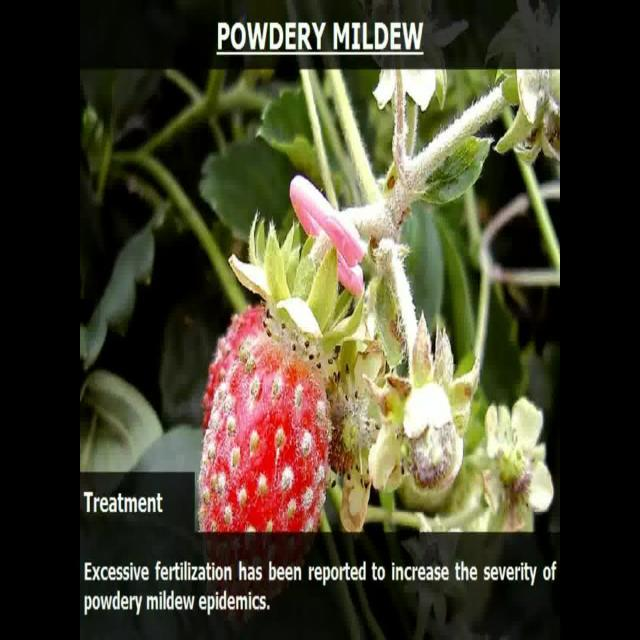Oído: (204, 328, 329, 528)
